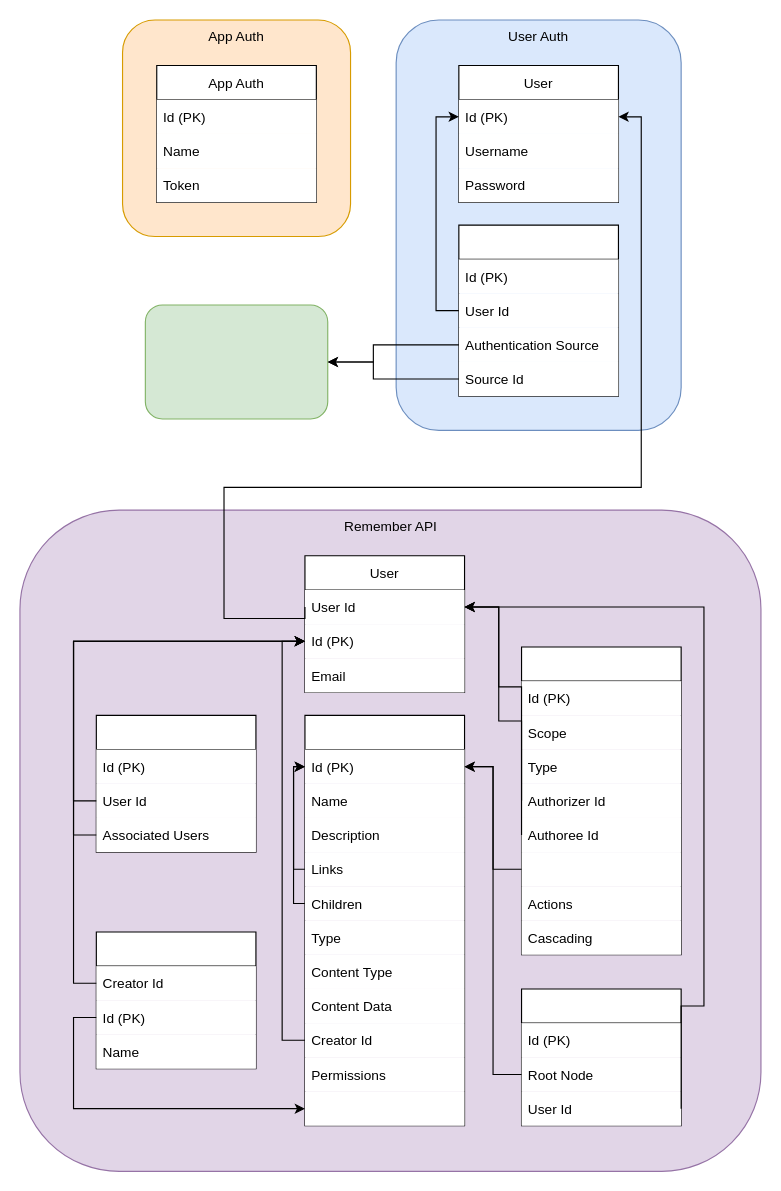
This 781x1191 diagram has some shape labels left out. Here are the shapes that lost their labels. From the top down, the box of each, then its label:
(458, 224, 618, 396): UserAuthAssoc
(144, 304, 328, 419): External Authentication/Identity Provider
(95, 714, 256, 852): User Association
(520, 646, 681, 955): Permission
(521, 852, 681, 886): Object Id
(304, 714, 465, 1126): Node
(95, 931, 256, 1069): Tag
(520, 988, 681, 1126): User Data
(304, 1091, 464, 1125): Tags
